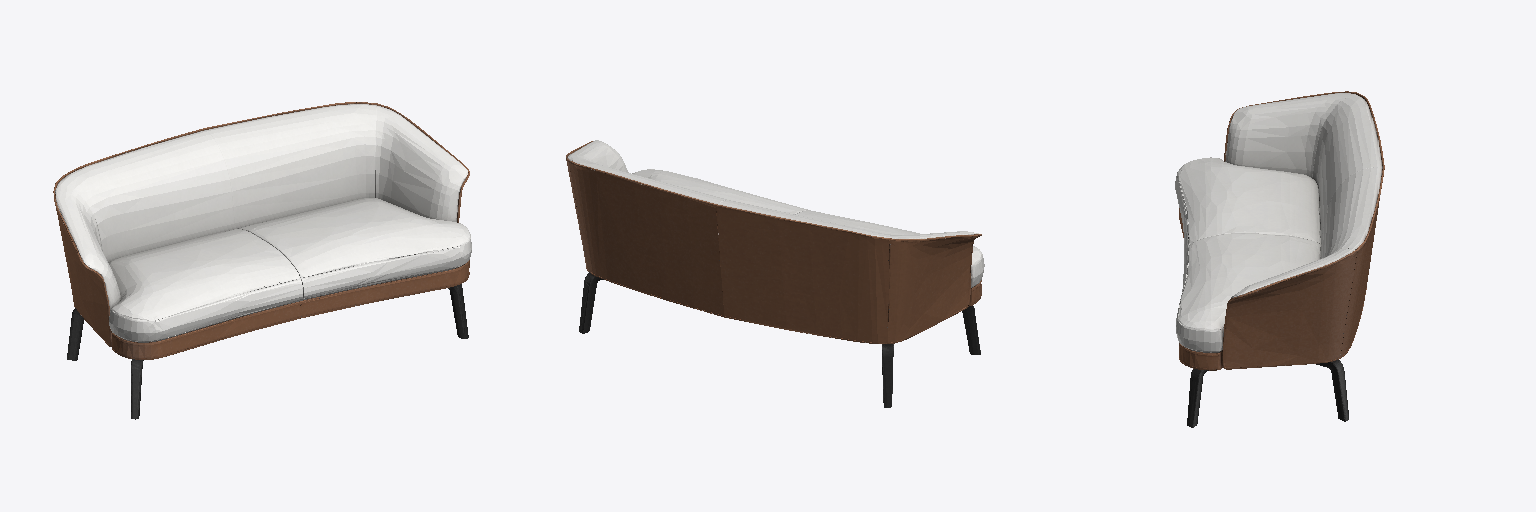
3 renders of one model, left to right at view 1: azimuth 30°, elevation 25°; view 2: azimuth 150°, elevation 25°; view 3: azimuth 270°, elevation 25°, orthographic.
Parts seen in each view (by area): view 1: solid_004, solid_003, solid_005; view 2: solid_003, solid_004, solid_005; view 3: solid_004, solid_003, solid_005.
Boxes of the visible parts, box(x1,y1,x2,y2) form: solid_004: box(55, 104, 471, 341); solid_003: box(53, 102, 469, 359); solid_005: box(67, 284, 468, 419); solid_003: box(566, 141, 981, 343); solid_004: box(567, 140, 984, 287); solid_005: box(579, 272, 980, 407); solid_004: box(1175, 93, 1382, 352); solid_003: box(1179, 91, 1384, 370); solid_005: box(1187, 360, 1348, 427).
Bounding box in the file's own units: 2 × 0.888 × 0.9418.
Materials: 1 (1 with a texture image).